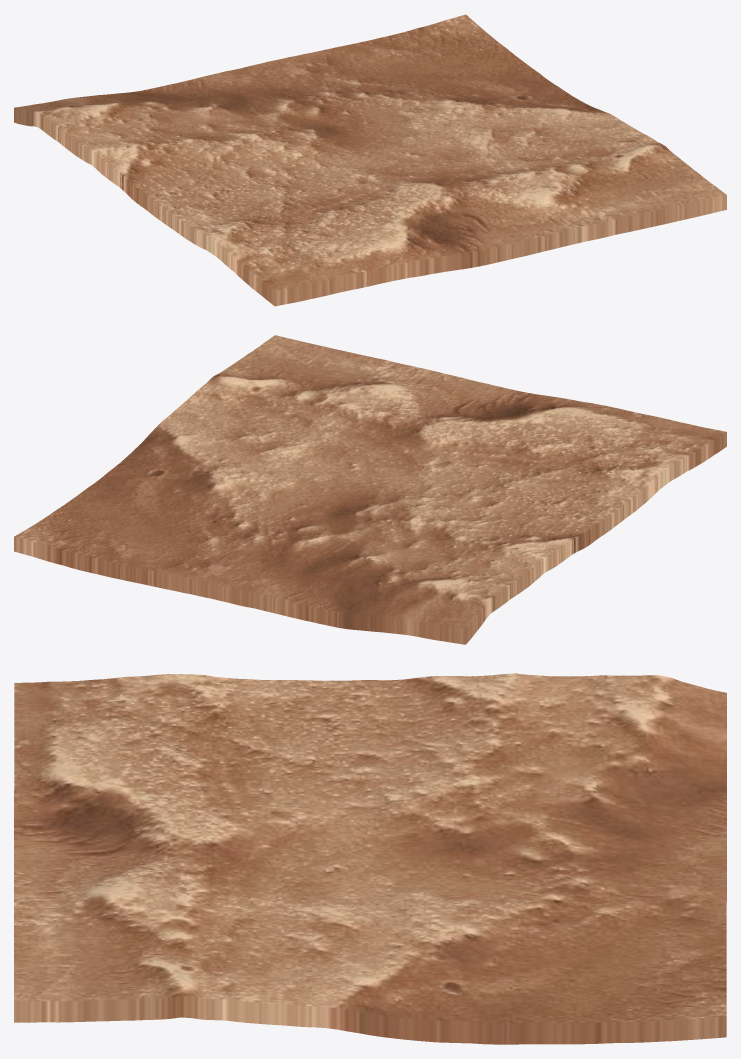
3 views of the same model, one above another, from view 1: azimuth 30°, elevation 25°; view 2: azimuth 150°, elevation 25°; view 3: azimuth 270°, elevation 25° (orthographic). The views are drawn at different scales.
Parts seen in each view (by area): view 1: L5_10_4; view 2: L5_10_4; view 3: L5_10_4.
Part boxes in pixels (box(x1,y1,x2,y2)): L5_10_4: box(14, 14, 726, 306); L5_10_4: box(14, 335, 726, 644); L5_10_4: box(14, 673, 726, 1044).
Size of the model in its own units: 450 by 48.93 by 450.
Materials: 1 (1 with a texture image).
